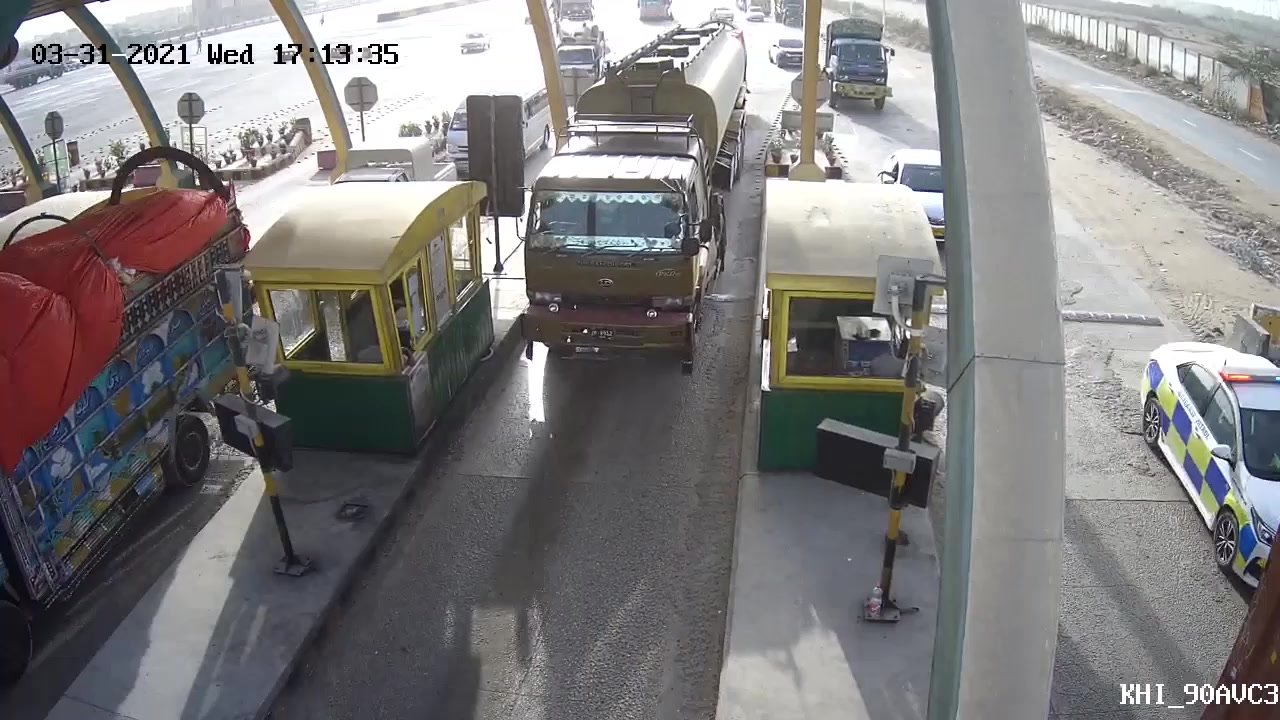F6: (511, 14, 760, 388)
